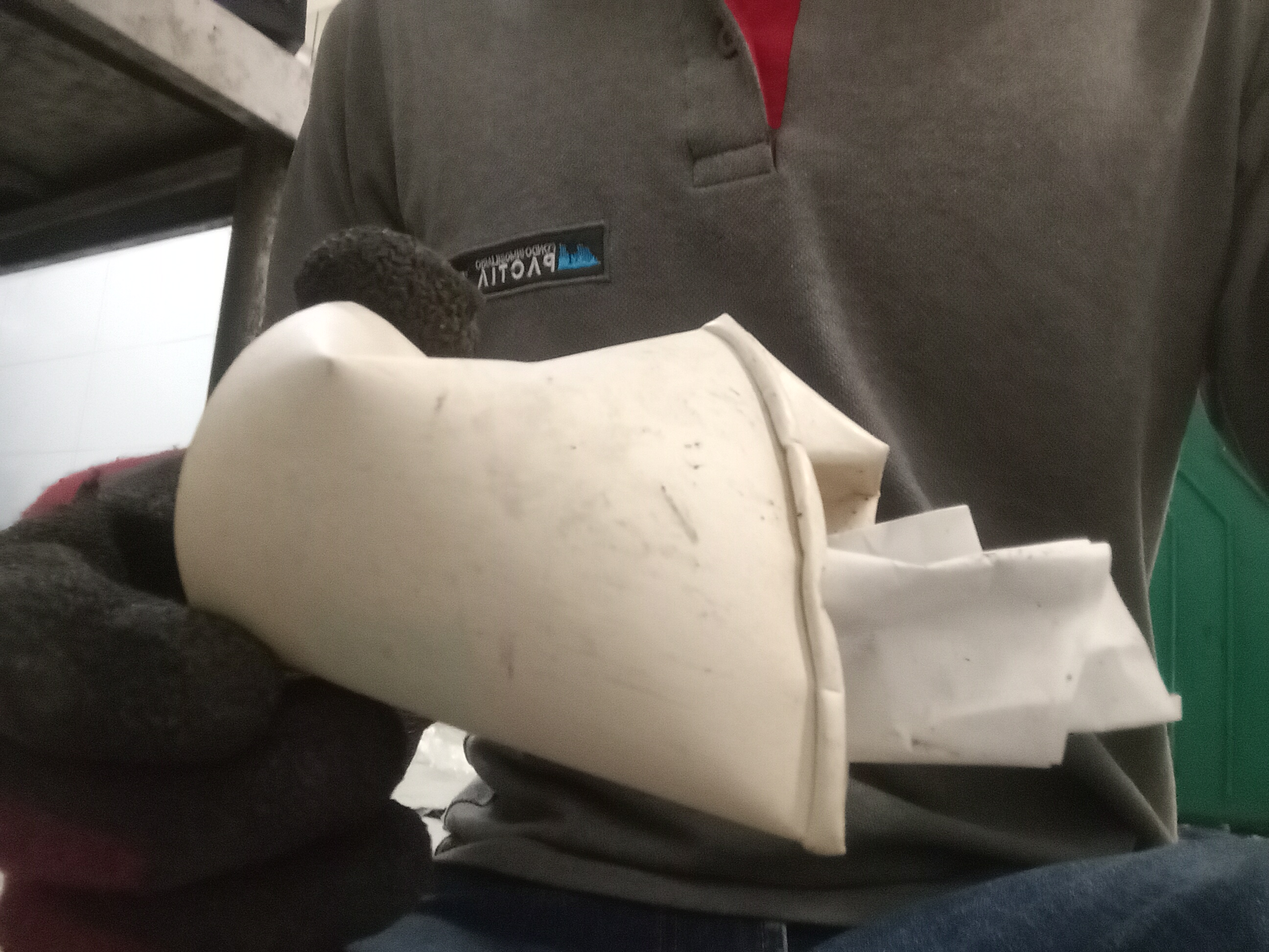Carton: (175, 297, 847, 856)
